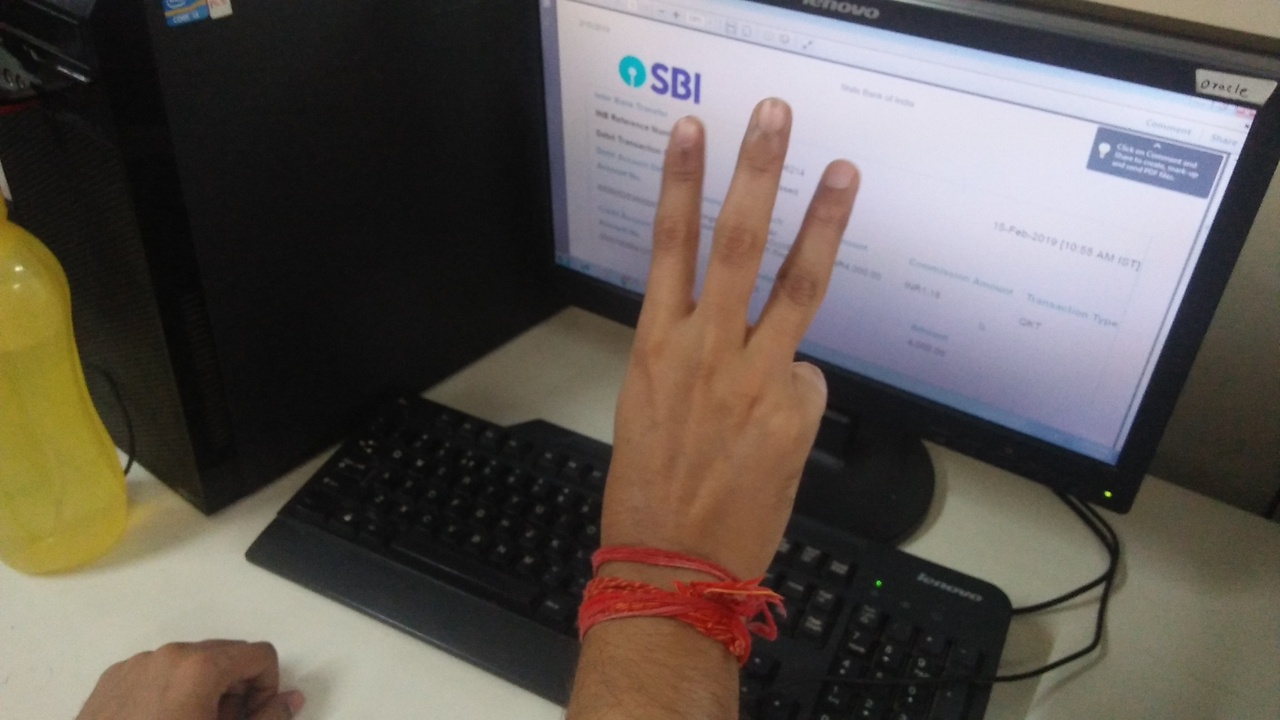fingertip: (736, 92, 802, 142), (810, 150, 868, 202), (662, 106, 714, 156)
